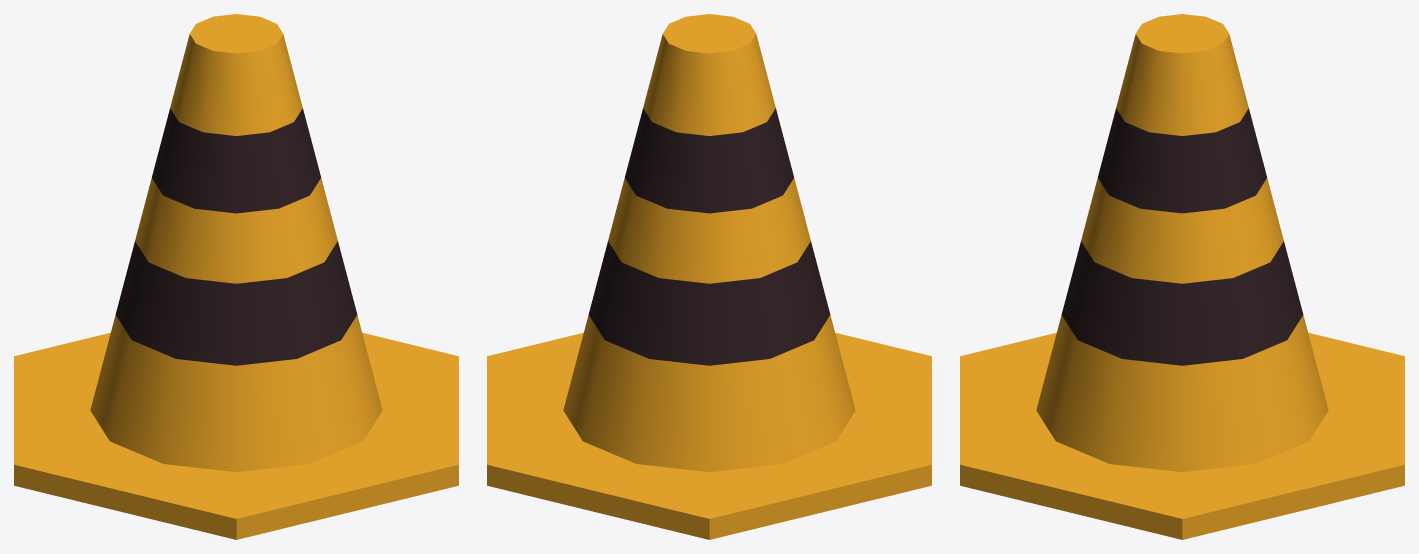
The model's file is obstacle4.fbx.
3 renders of one model, left to right at view 1: azimuth 30°, elevation 25°; view 2: azimuth 150°, elevation 25°; view 3: azimuth 270°, elevation 25°, orthographic.
Parts seen in each view (by area): view 1: 圆柱_1; view 2: 圆柱_1; view 3: 圆柱_1.
Boxes of the visible parts, x1,y1,x2,y2 form: 圆柱_1: [14, 14, 458, 539]; 圆柱_1: [487, 14, 931, 539]; 圆柱_1: [960, 14, 1404, 539].
Bounding box in the file's own units: 384 × 328 × 333.
